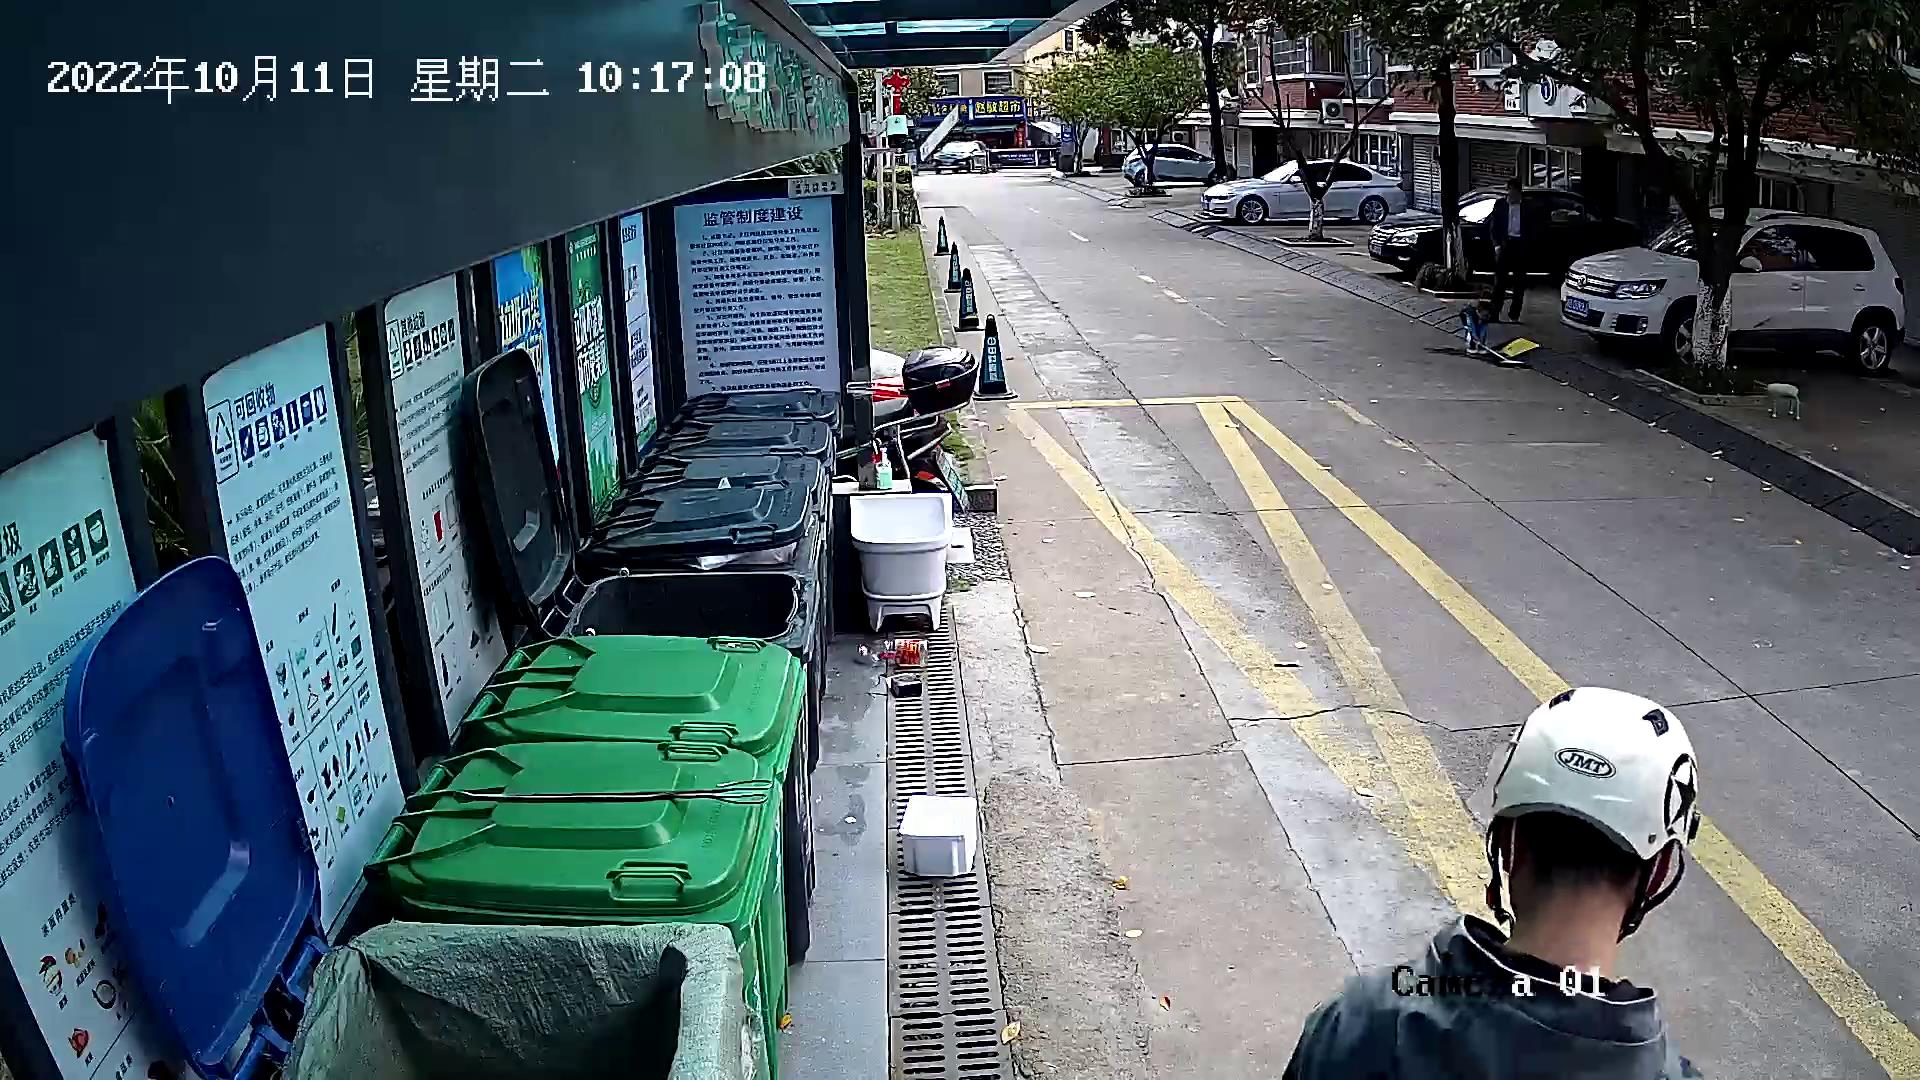paomozhipin: (888, 786, 991, 887)
person: (1262, 676, 1723, 1080)
suliaozhipin: (848, 625, 933, 672)
zhizhipin: (878, 667, 931, 703)
